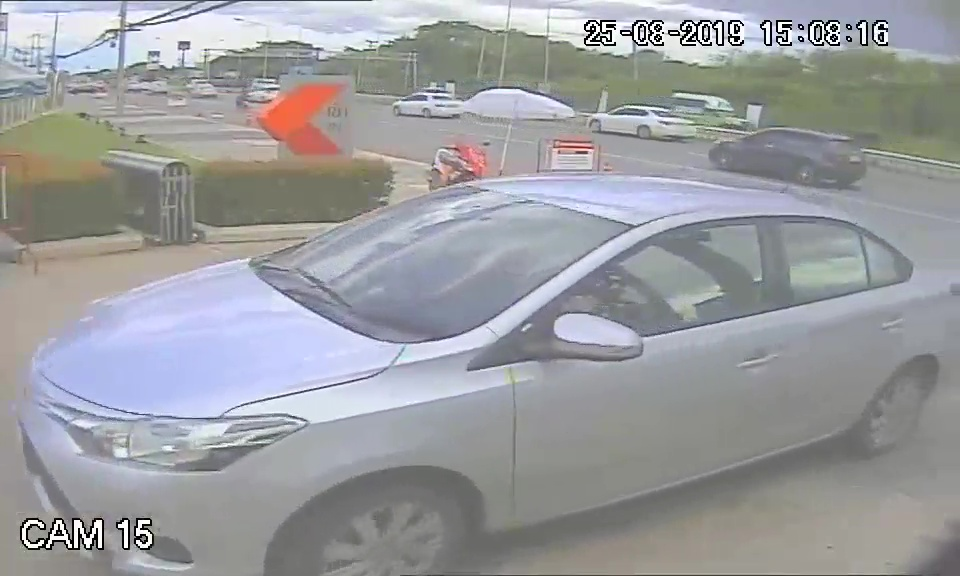sedan: (25, 195, 730, 572)
